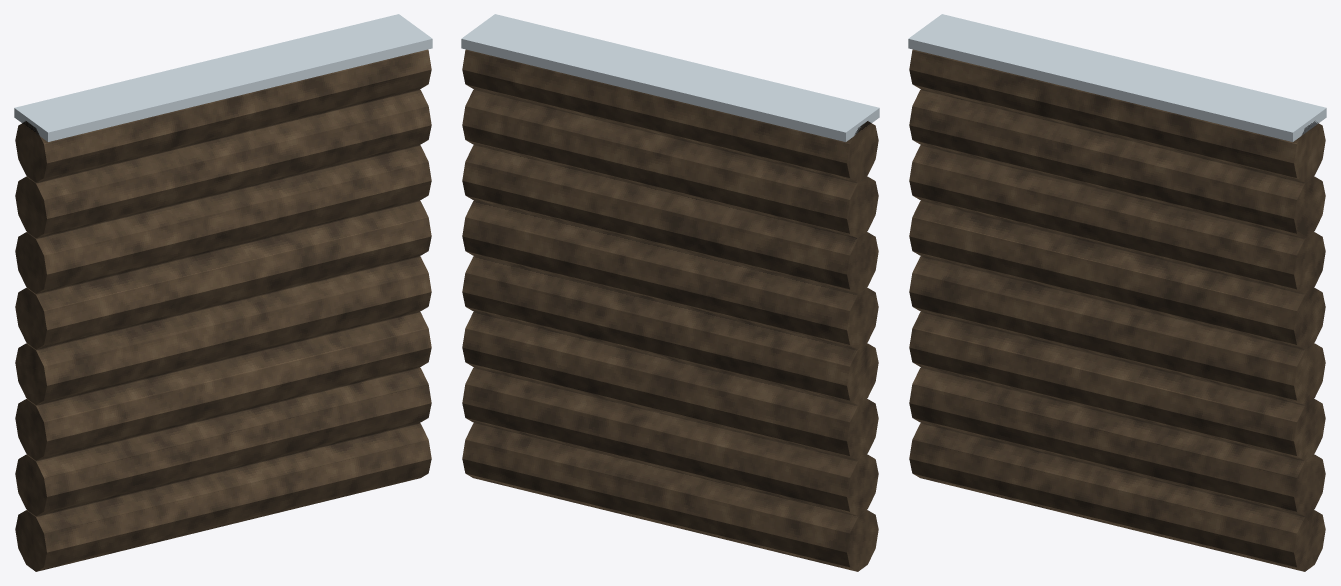
The model's file is room_wall_snow.glb.
3 views of the same model, side by side, from view 1: azimuth 30°, elevation 25°; view 2: azimuth 150°, elevation 25°; view 3: azimuth 330°, elevation 25° (orthographic).
Parts seen in each view (by area): view 1: room_wall_snow; view 2: room_wall_snow; view 3: room_wall_snow.
Part boxes in pixels (x1,y1,x2,y2): room_wall_snow: [14, 14, 432, 571]; room_wall_snow: [461, 14, 879, 571]; room_wall_snow: [908, 14, 1326, 571].
Bounding box in the file's own units: 2.1 × 2.34 × 0.32.
Materials: 2 (2 with a texture image).
